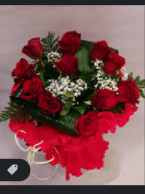RedRose: (19, 75, 46, 100), (37, 91, 64, 115), (103, 50, 127, 75), (55, 54, 81, 76)
